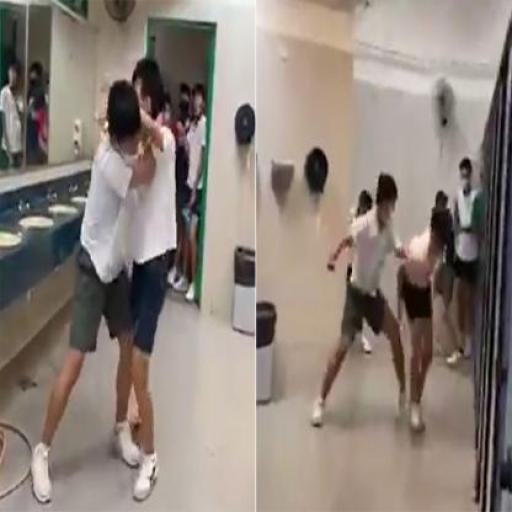Fighting: (32, 50, 177, 512), (314, 170, 460, 438)
